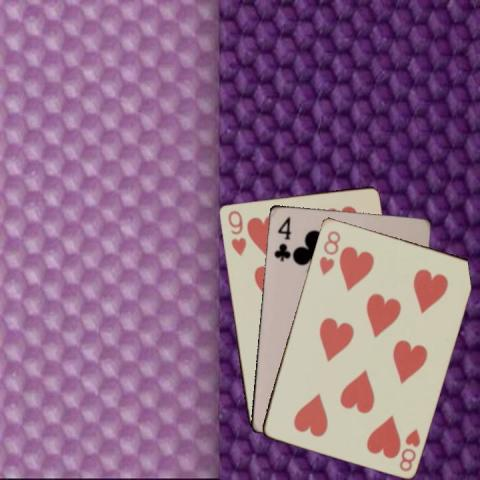4c: (271, 213, 292, 263)
8h: (316, 227, 342, 277), (396, 425, 421, 473)
9h: (225, 207, 247, 257)
